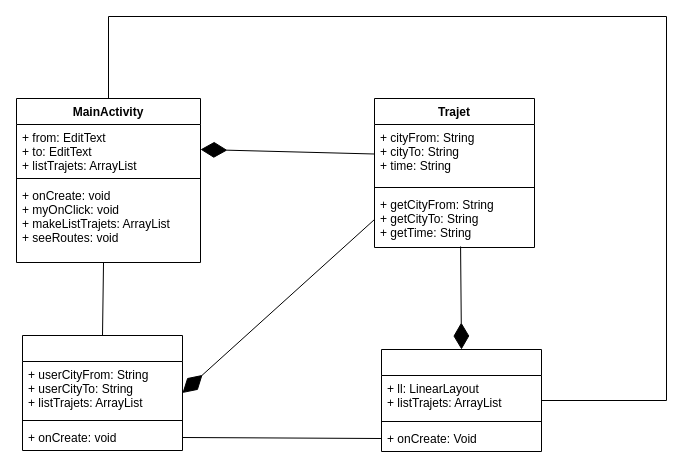
This 683x468 diagram has some shape labels left out. The box of each missing label's shape, as (x1, y1, x2, y2) in pixels:
ResultRoutes: (380, 348, 542, 452)
RoutesList: (22, 334, 182, 450)
